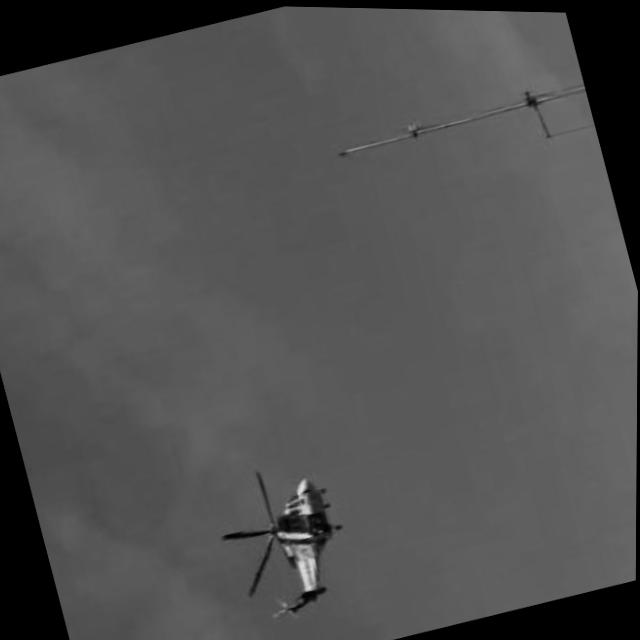helikopter: (204, 451, 360, 629)
